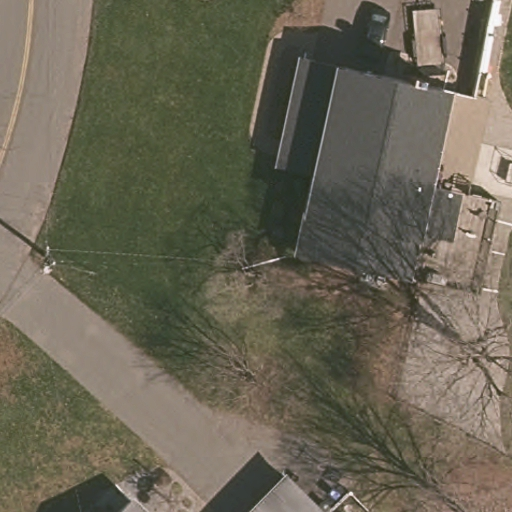DT: (33, 240, 61, 275)
